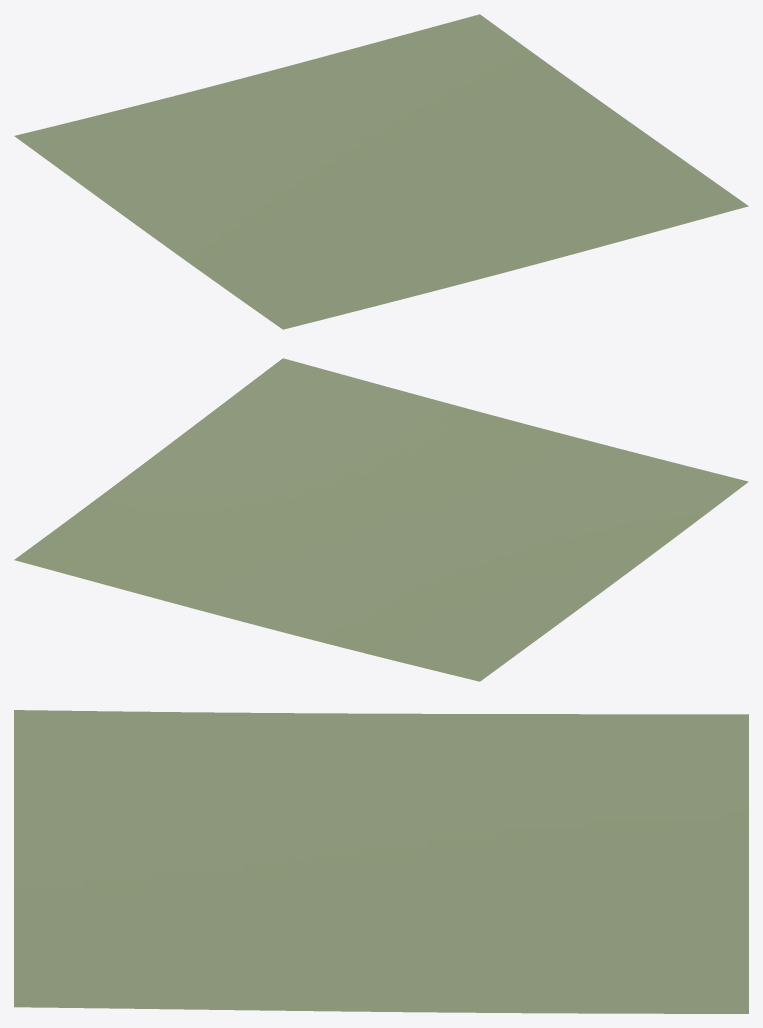
File: desert-25-28.glb
3 views of the same model, one above another, from view 1: azimuth 30°, elevation 25°; view 2: azimuth 150°, elevation 25°; view 3: azimuth 270°, elevation 25° (orthographic). The views are drawn at different scales.
Visible parts, largest first — view 1: desert-25-28; view 2: desert-25-28; view 3: desert-25-28.
Part boxes in pixels (x1=…): desert-25-28: x1=14, y1=14, x2=748, y2=329; desert-25-28: x1=14, y1=358, x2=748, y2=681; desert-25-28: x1=14, y1=710, x2=748, y2=1013.
Size of the model in its own units: 512 by 13.59 by 512.
